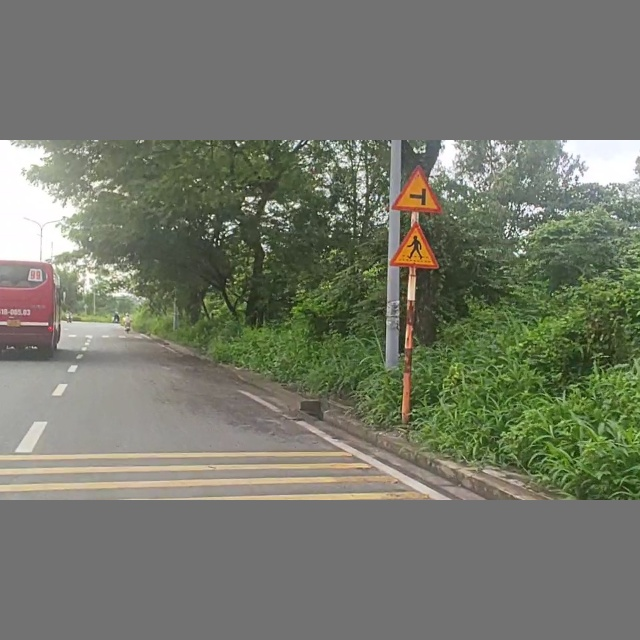W.205c: (393, 161, 445, 217)
W.224: (389, 218, 443, 270)
